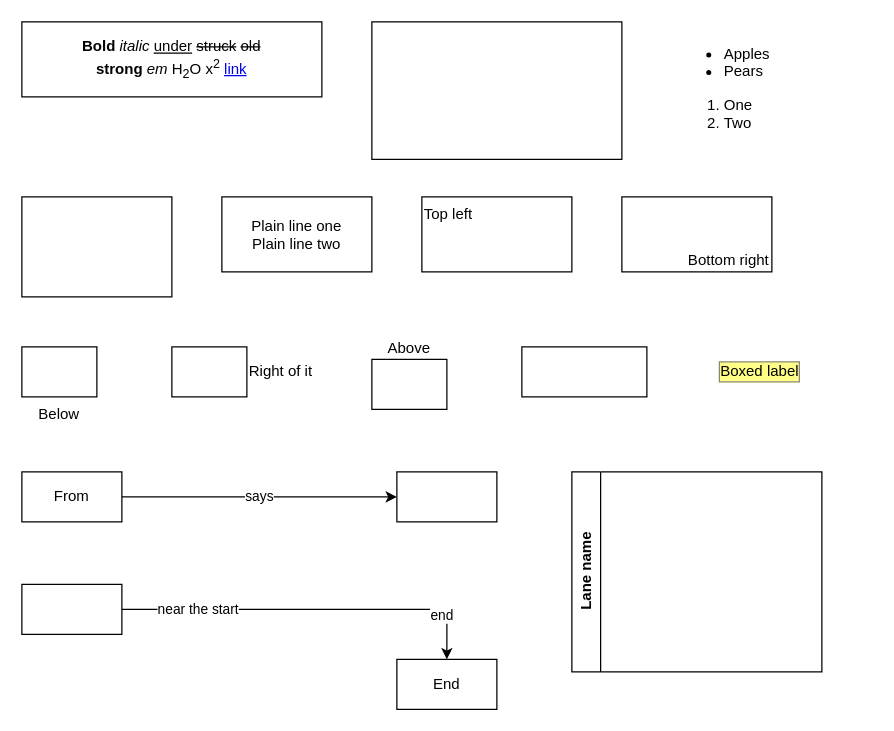
Some shapes in this 894 by 731 pixel diagram are drawn without their labels. Here are the shapes that lost their labels. From the top down, the centre of each, then its label:
At [496,90]: "First block Red 16 px A paragraph Font tag".
At [96,246]: "A long label that wraps inside its narrow box & keeps <entities>".
At [584,371]: "Bold 14".
At [446,496]: "To".
At [71,608]: "Start".
